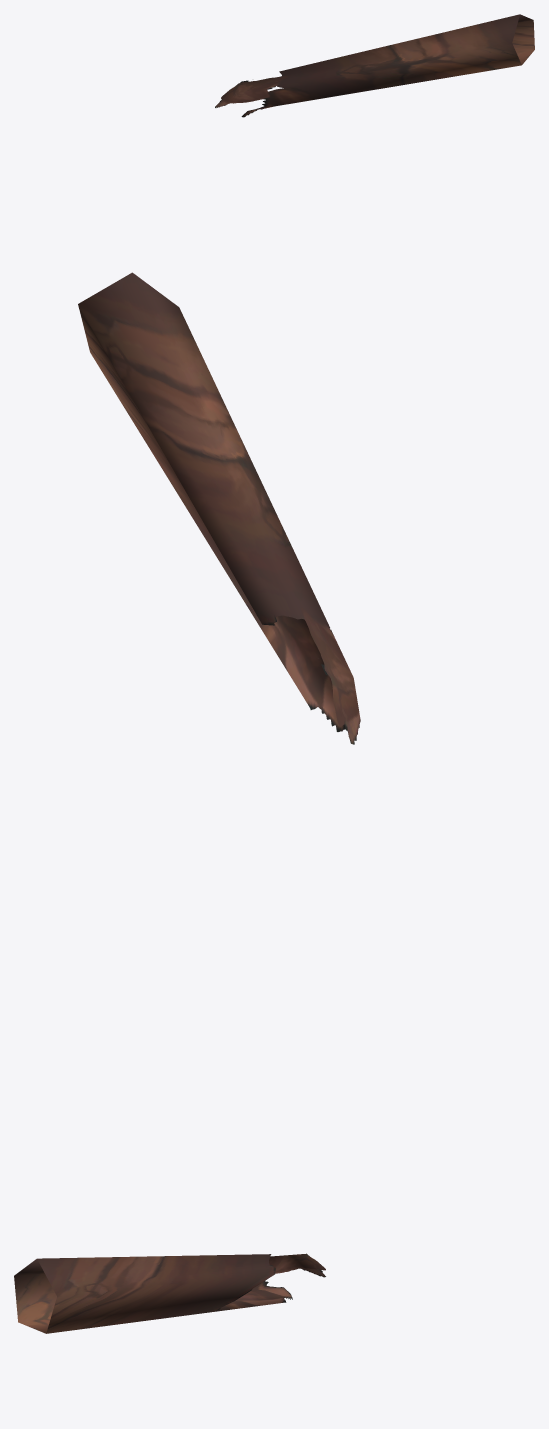
The model's file is effect_models-02_rw.FBX.
3 renders of one model, top to bottom at view 1: azimuth 30°, elevation 25°; view 2: azimuth 150°, elevation 25°; view 3: azimuth 270°, elevation 25°, orthographic. The views are drawn at different scales.
Parts seen in each view (by area): view 1: Object006; view 2: Object006; view 3: Object006.
Boxes of the visible parts, x1,y1,x2,y2 form: Object006: (215, 14, 534, 117); Object006: (78, 272, 360, 744); Object006: (14, 1253, 325, 1333).
Size of the model in its own units: 0.4192 by 0.3024 by 0.3572.
